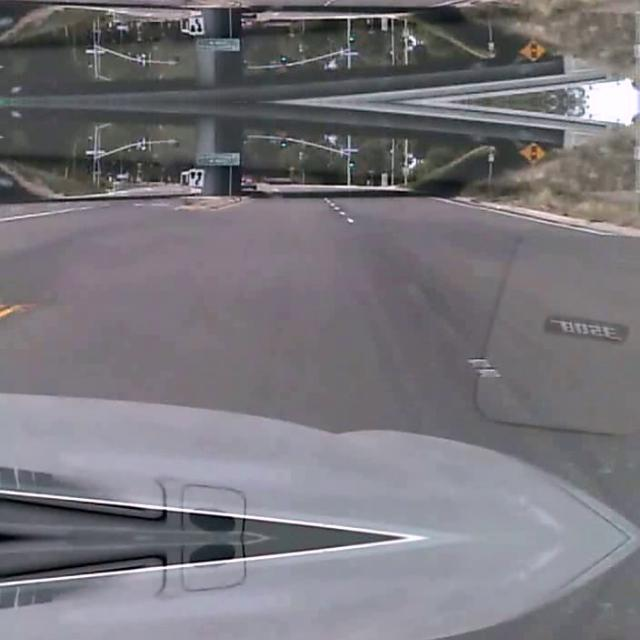signalAhead: (518, 138, 546, 164), (518, 38, 546, 64)
